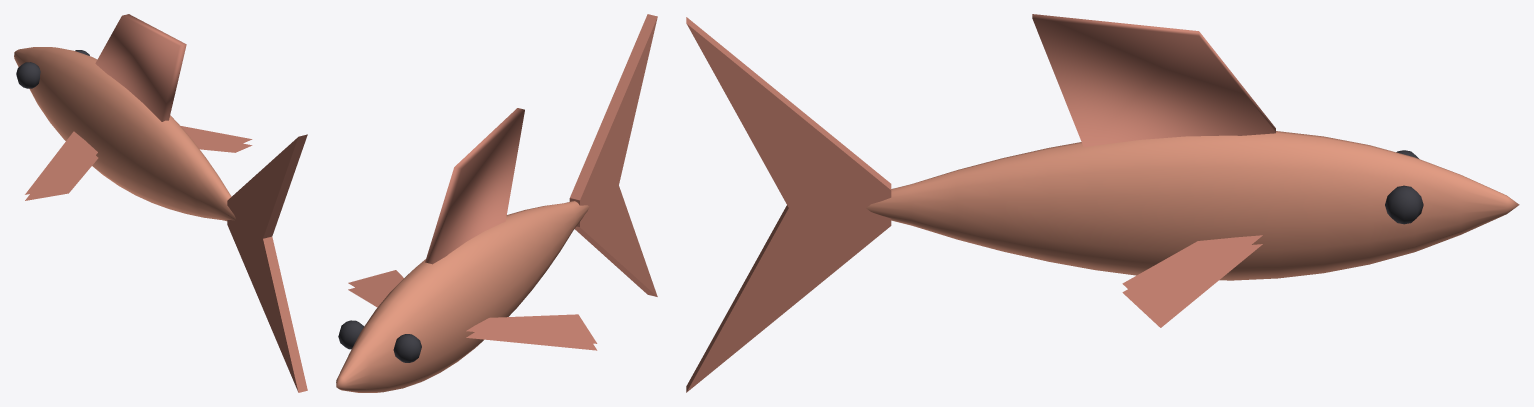
File: fish_copper_red.glb
The picture shows the model from 3 angles, left to right: view 1: azimuth 30°, elevation 25°; view 2: azimuth 150°, elevation 25°; view 3: azimuth 270°, elevation 25°; orthographic projection. The views are drawn at different scales.
Visible parts, largest first — view 1: Fish_Body, Fish_Fins, Fish_TailFin, Fish_Eyes; view 2: Fish_Body, Fish_Fins, Fish_TailFin, Fish_Eyes; view 3: Fish_Body, Fish_Fins, Fish_TailFin, Fish_Eyes.
Boxes of the visible parts, left/top/right/bottom form: Fish_Body: left=14, top=47, right=235, bottom=221; Fish_Fins: left=25, top=14, right=252, bottom=200; Fish_TailFin: left=227, top=134, right=307, bottom=392; Fish_Eyes: left=16, top=50, right=89, bottom=88; Fish_Body: left=336, top=201, right=589, bottom=392; Fish_Fins: left=348, top=108, right=597, bottom=350; Fish_TailFin: left=569, top=14, right=657, bottom=296; Fish_Eyes: left=338, top=320, right=421, bottom=362; Fish_Body: left=866, top=131, right=1519, bottom=280; Fish_Fins: left=1032, top=14, right=1275, bottom=327; Fish_TailFin: left=686, top=17, right=891, bottom=392; Fish_Eyes: left=1385, top=150, right=1423, bottom=224.
Size of the model in its own units: 0.3912 by 0.424 by 0.858.
